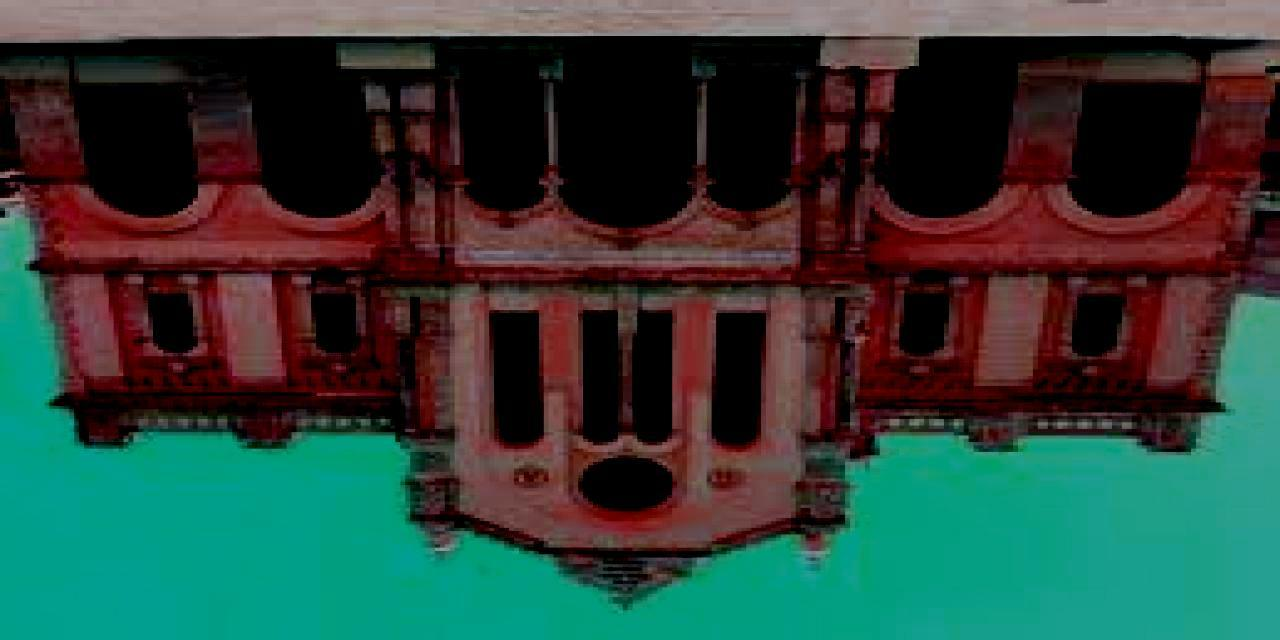Agios Minas: (1, 39, 1272, 614)
